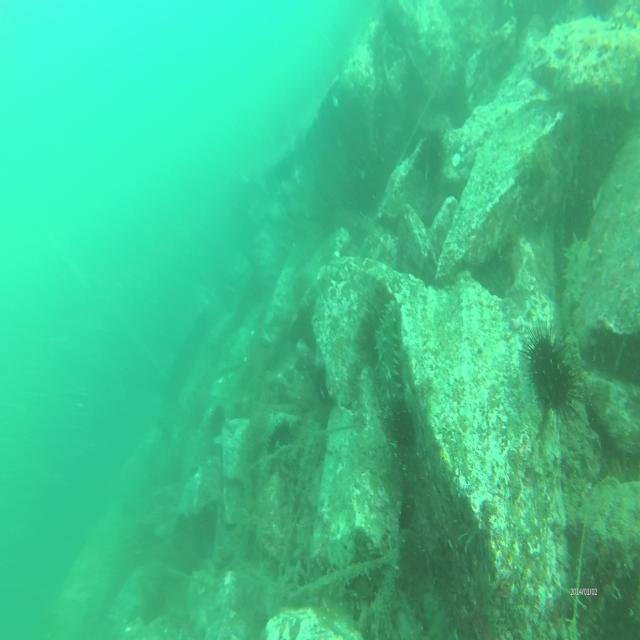echinus: (521, 319, 582, 424), (415, 125, 449, 182), (260, 424, 296, 461), (292, 270, 311, 311), (207, 402, 225, 445)
holothurian: (370, 295, 406, 414), (561, 231, 591, 319)
